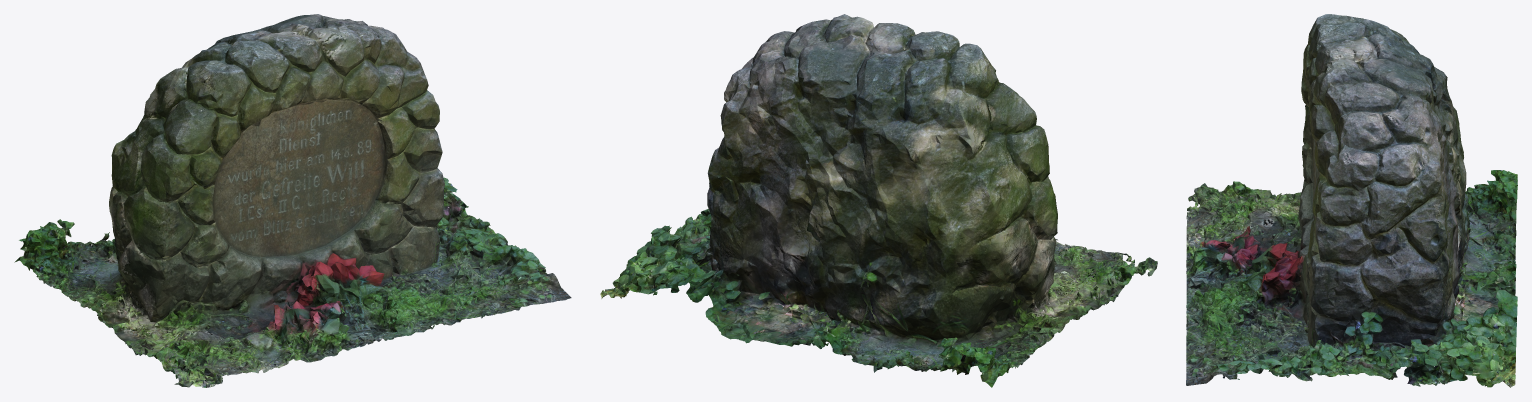
3 views of the same model, side by side, from view 1: azimuth 30°, elevation 25°; view 2: azimuth 150°, elevation 25°; view 3: azimuth 270°, elevation 25° (orthographic). The views are drawn at different scales.
Visible parts, largest first — view 1: 2k.50k; view 2: 2k.50k; view 3: 2k.50k.
Boxes of the visible parts, x1,y1,x2,y2 form: 2k.50k: (14, 14, 571, 387); 2k.50k: (600, 14, 1157, 387); 2k.50k: (1186, 14, 1517, 387).
Bounding box in the file's own units: 3.67 × 2.35 × 2.76.
Materials: 1 (1 with a texture image).
